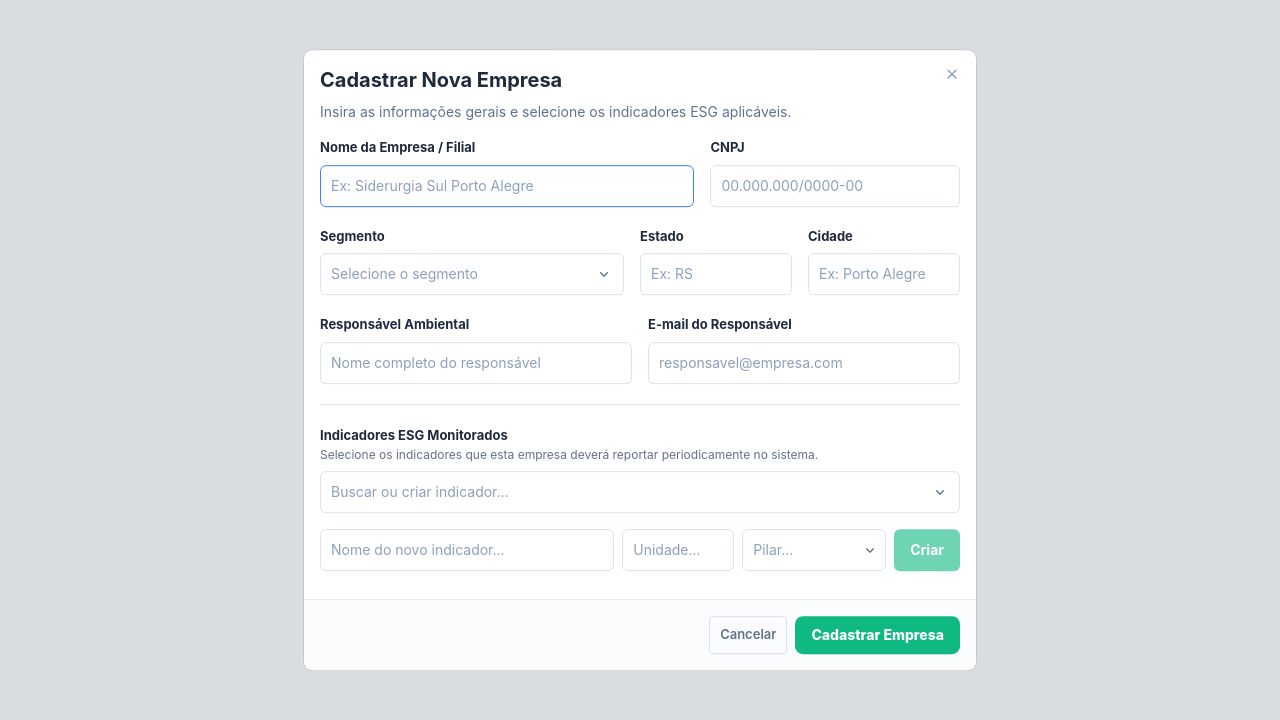
Test: NewCompanyModal catalogs › offers the indicators returned by the API in the search dropdown
Expected: the button "Cadastrar Empresa" is enabled, [795,616,960,654]
Click the field with placeholder "Buscar ou criar indicador..." at (640, 492), box [320,471,960,513]
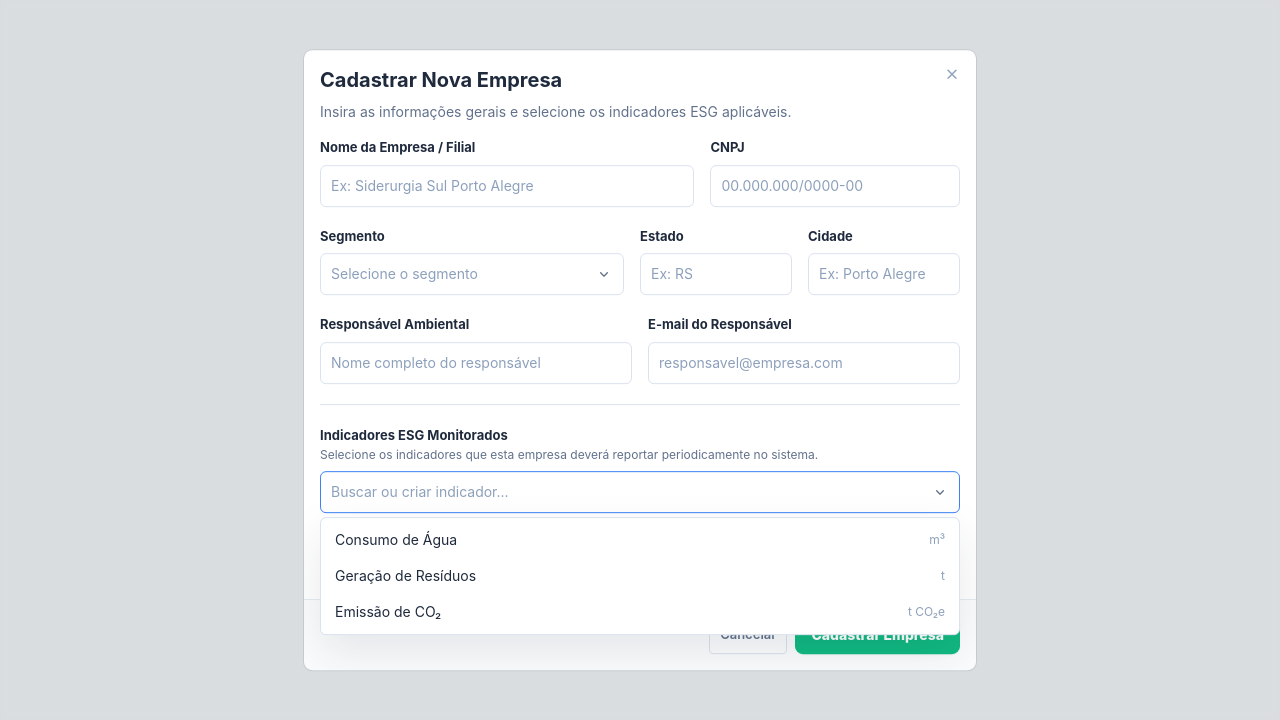
Expected: the text "Consumo de Água" is shown, [335,530,457,550]
Expected: the text "Geração de Resíduos" is shown, [335,566,476,586]
